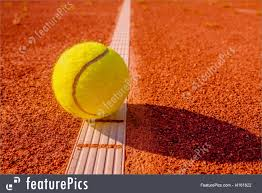tennis_ball: (51, 40, 130, 123)
